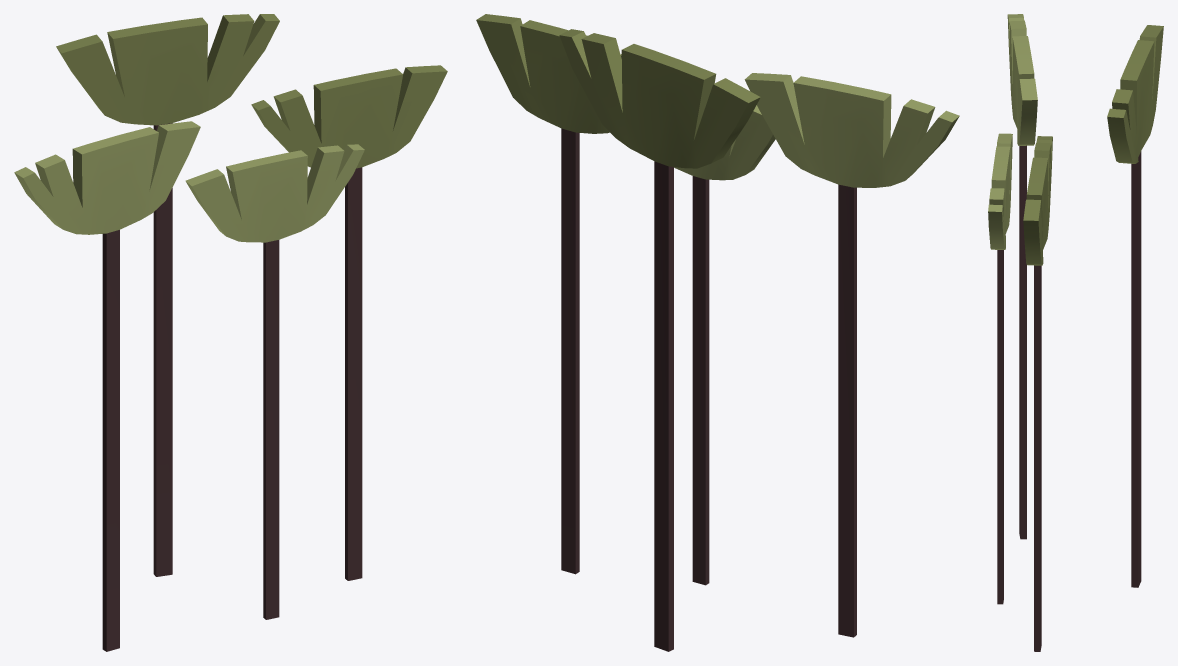
The model's file is plant_C.fbx.
The picture shows the model from 3 angles, left to right: view 1: azimuth 30°, elevation 25°; view 2: azimuth 150°, elevation 25°; view 3: azimuth 270°, elevation 25°; orthographic projection. The views are drawn at different scales.
Parts seen in each view (by area): view 1: plant_C; view 2: plant_C; view 3: plant_C.
Boxes of the visible parts, <box> form: plant_C: <box>14,14,447,651</box>; plant_C: <box>476,14,959,651</box>; plant_C: <box>988,14,1163,651</box>.
Size of the model in its own units: 157 by 190 by 57.49.
